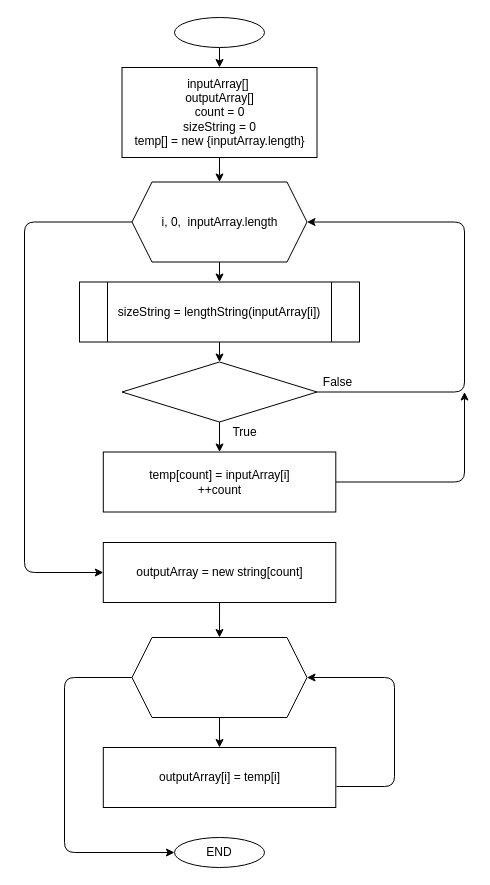
Some shapes in this 490 by 885 pixel diagram are drawn without their labels. The shapes that lost their labels are listed below. From the top down, each one's centre as x and y in pixels, then its label:
At point 219,32: "Start".
At point 219,391: "sizeString <= 3".
At point 219,677: "i, 0, count".
